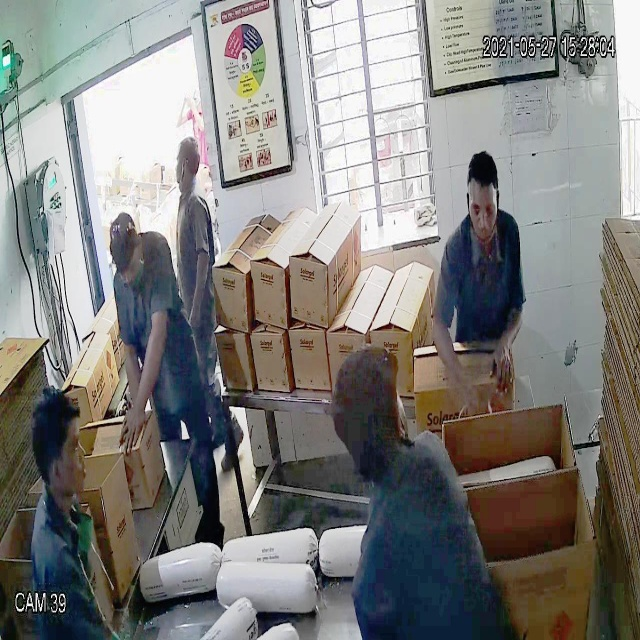Sin_gafas: (464, 196, 501, 225)
